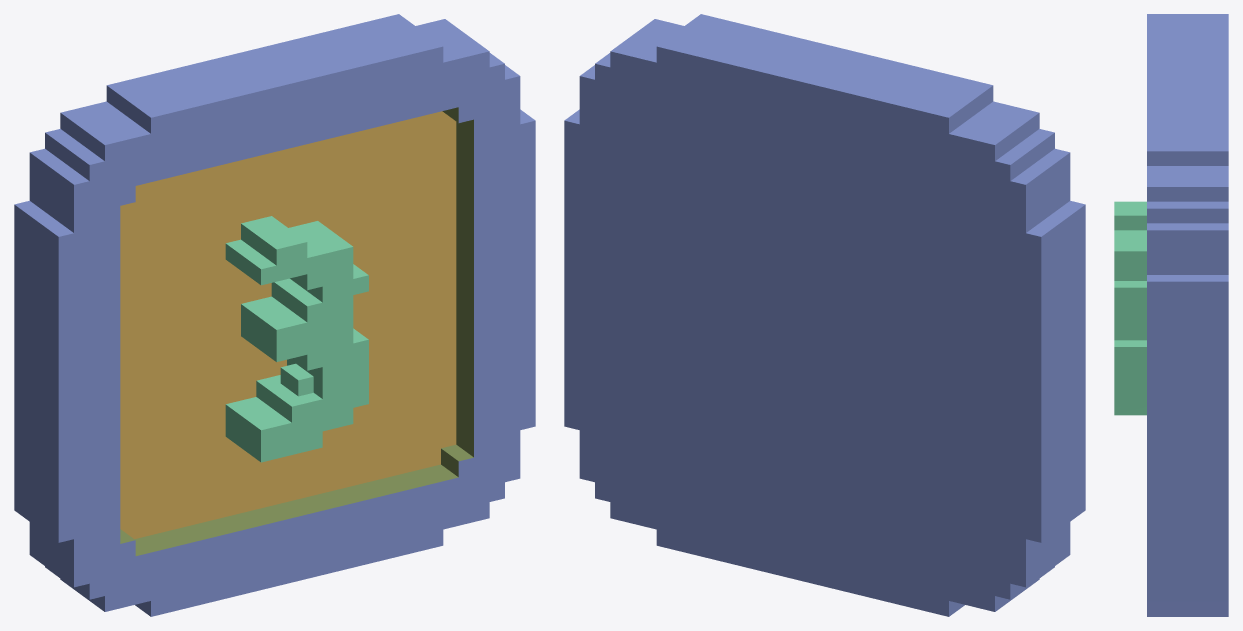
Rendered from roll_3.fbx.
3 renders of one model, left to right at view 1: azimuth 30°, elevation 25°; view 2: azimuth 150°, elevation 25°; view 3: azimuth 270°, elevation 25°, orthographic. The views are drawn at different scales.
Visible parts, largest first — view 1: OUT; view 2: OUT; view 3: OUT.
Part boxes in pixels (<box>): OUT: <box>14,14,535,616</box>; OUT: <box>564,14,1085,616</box>; OUT: <box>1114,14,1228,616</box>.
Bounding box in the file's own units: 1.55 × 1.55 × 0.3502.
